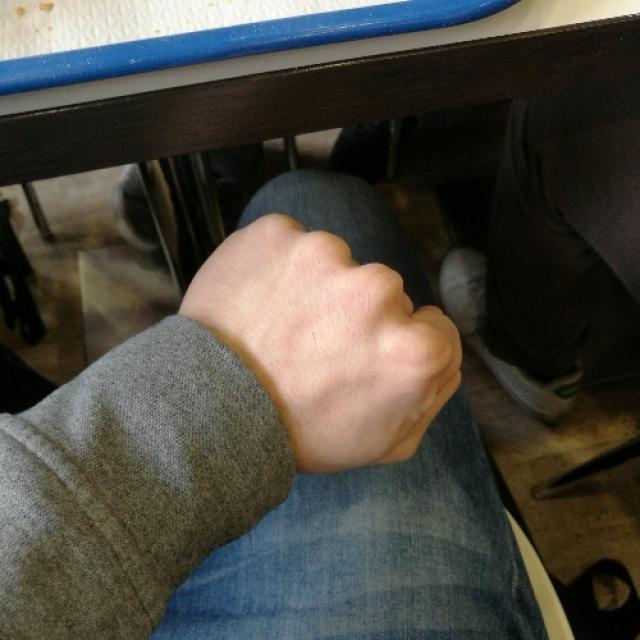rock: (190, 208, 463, 470)
